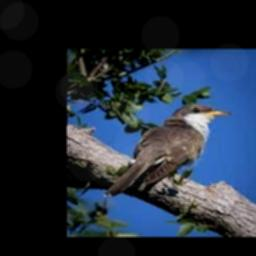Cuckoo: (103, 104, 231, 197)
